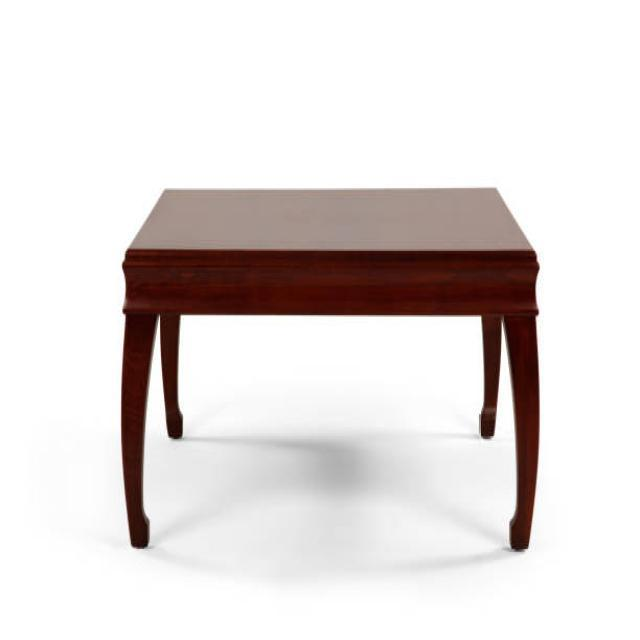table: (119, 185, 541, 552)
